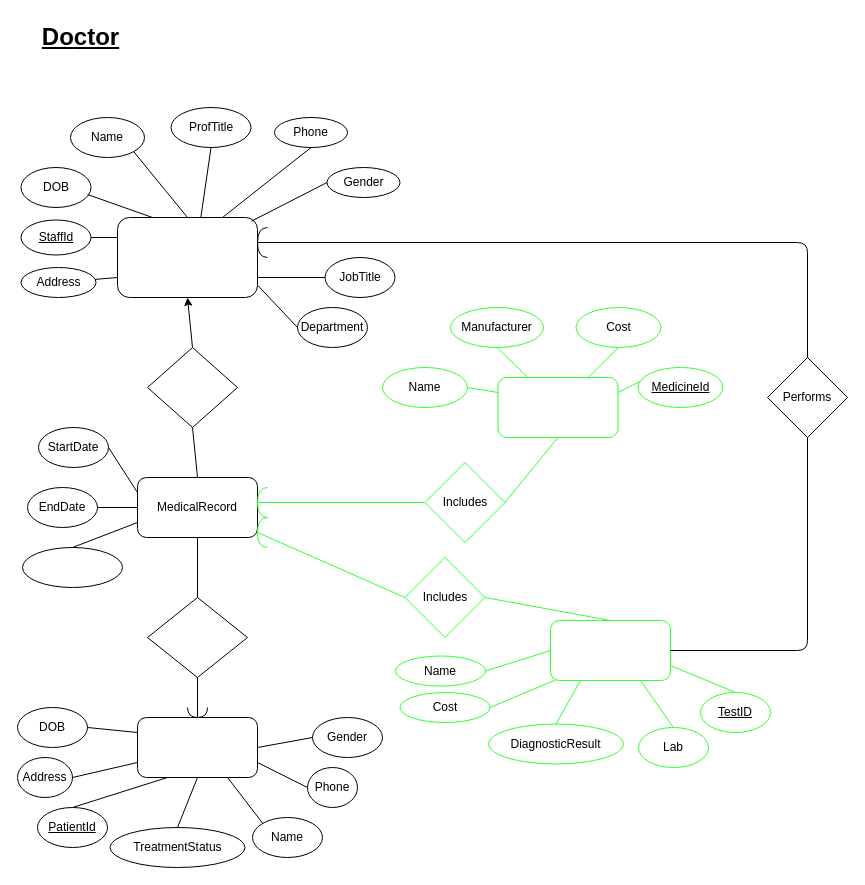
The diagram is 865 pixels wide and 885 high, and some of its shapes have lost their labels. The shapes that lost their labels are listed below. From the top down, each one's centre as x and y in pixels, then its label:
At point 187,257: "Staff".
At point 192,387: "Handles".
At point 557,407: "Medicine".
At point 72,567: "MedicalRecordId".
At point 197,637: "Associated With".
At point 610,650: "Test".
At point 197,747: "Patient".
